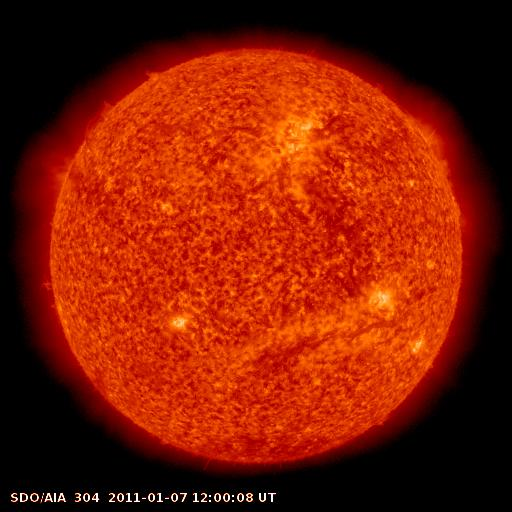prominence: (74, 89, 124, 143), (33, 264, 64, 314), (137, 59, 172, 93)
